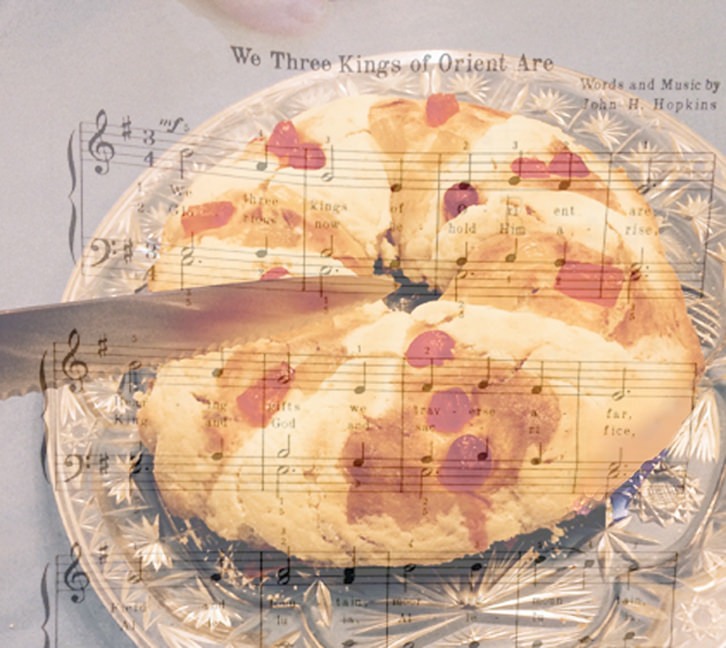slice of bread: (184, 373, 575, 529)
